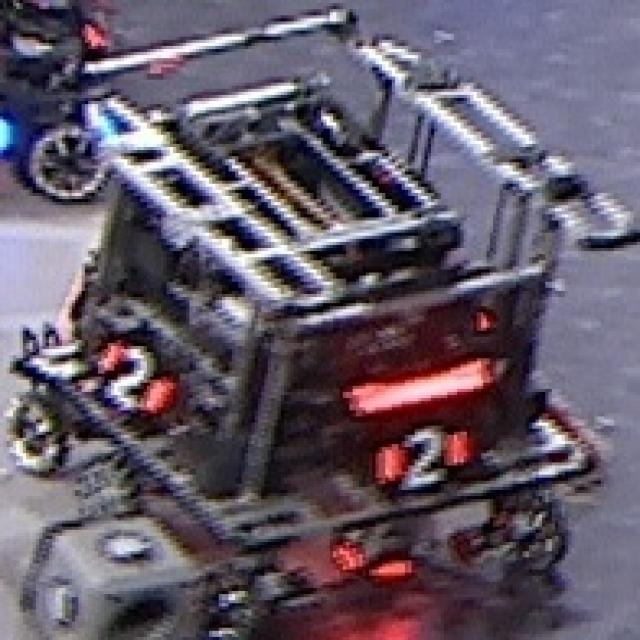R2: (88, 330, 173, 420), (356, 422, 477, 483)
